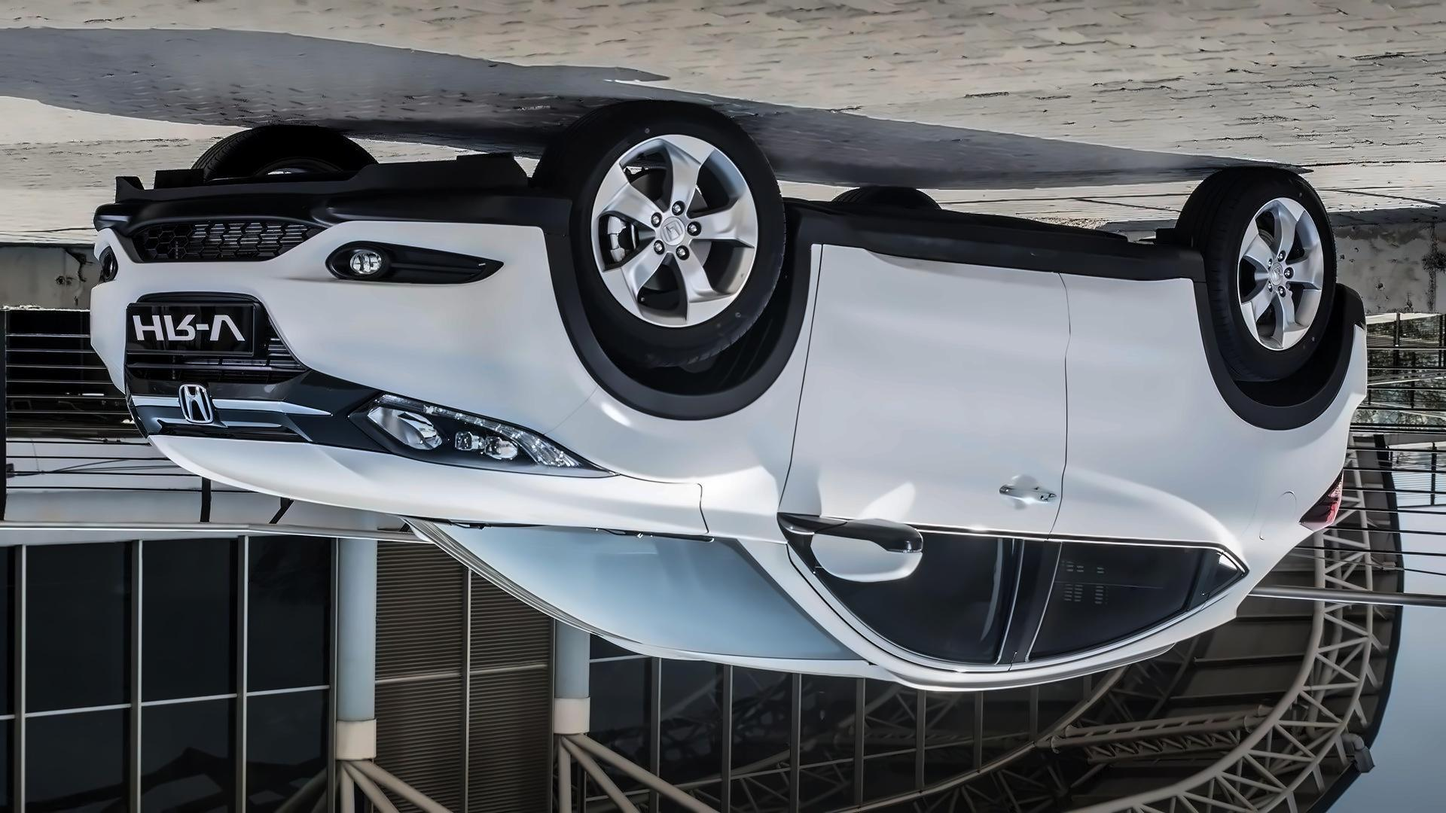Car hood: (146, 435, 714, 546)
Driver-s door - -F-R-: (781, 202, 1080, 704)
Fender - -F-R-: (552, 211, 839, 550)
Fender - -R-R-: (1159, 262, 1372, 608)
Front bumper: (77, 162, 606, 450)
Headlight - -R-: (338, 393, 615, 481)
Passenger-s door - -R-R-: (993, 202, 1242, 701)
Rear light - -R-: (1299, 467, 1349, 537)
Side bumper - -R-: (788, 192, 1226, 339)
Side mirror - -R-: (780, 507, 925, 587)
